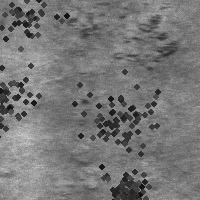rolled-in_scale: (65, 63, 177, 175), (69, 5, 177, 69), (0, 0, 87, 67), (0, 52, 46, 138), (84, 158, 156, 200), (95, 161, 155, 200)
